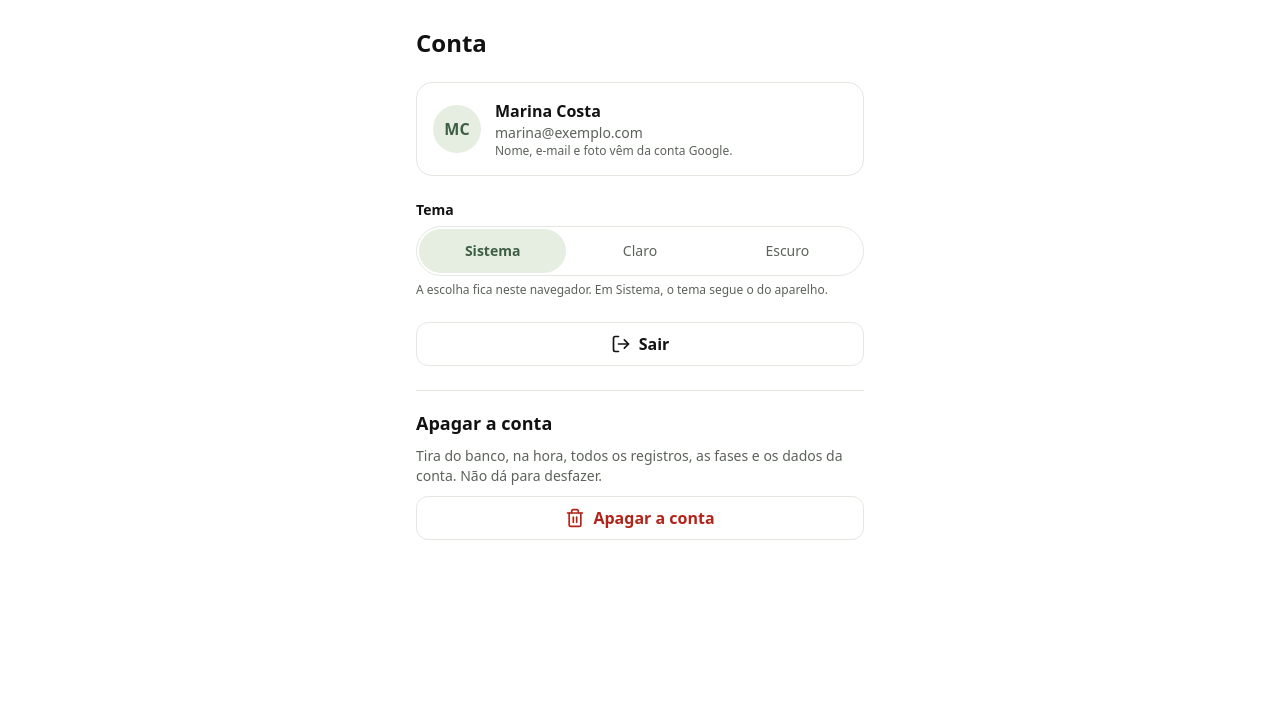
o e-mail que não confere fica no campo, e a conta continua
Click the button "Apagar a conta" at (640, 518), box [416, 496, 864, 540]
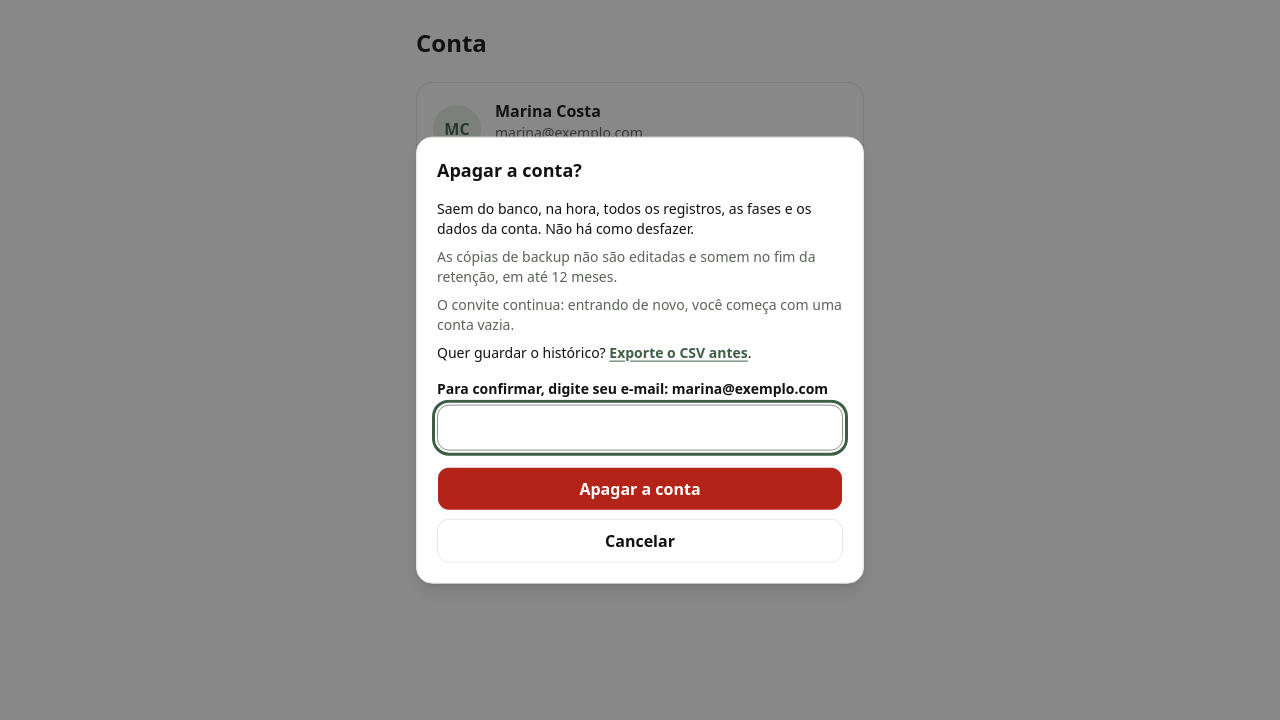
Type "marina@exemplo.co" into the field labelled "Para confirmar, digite seu e-mail: marina@exemplo.com" at (640, 427), box [450, 405, 830, 449]
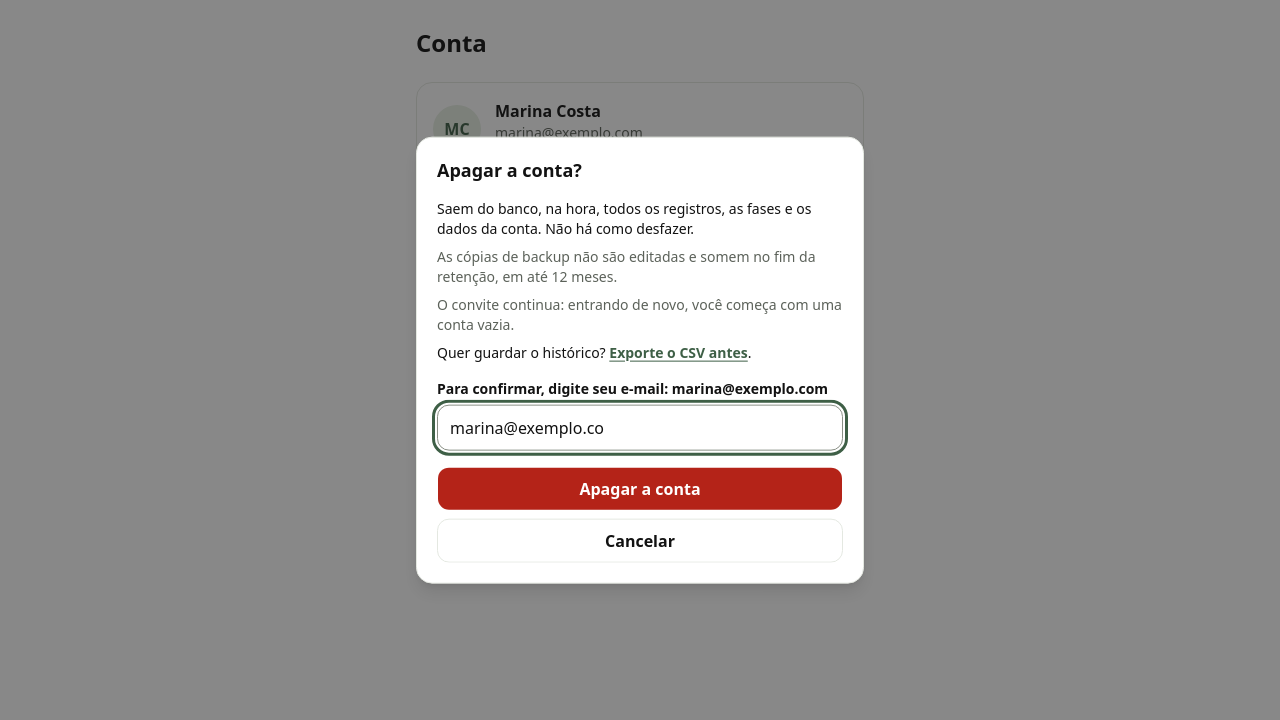
Click the button "Apagar a conta" at (640, 488), box [437, 466, 843, 510]
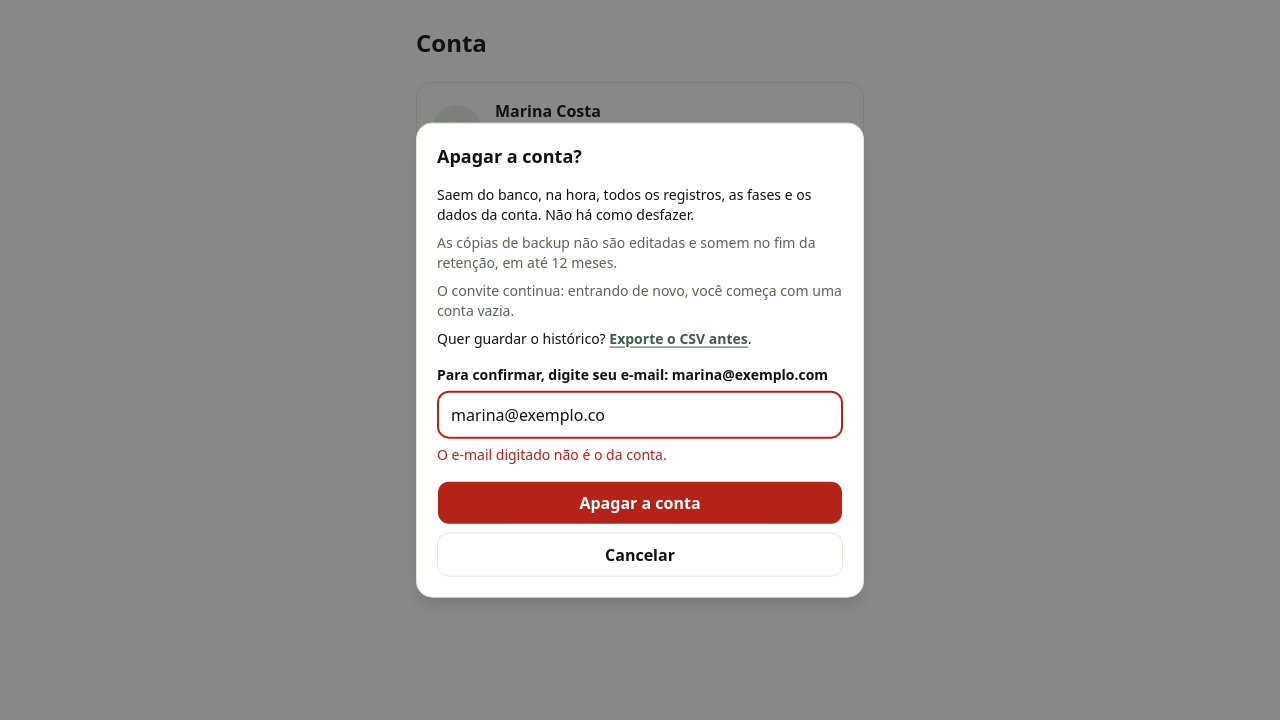
Now the text "O e-mail digitado não é o da conta." is shown, box [437, 444, 667, 463]
